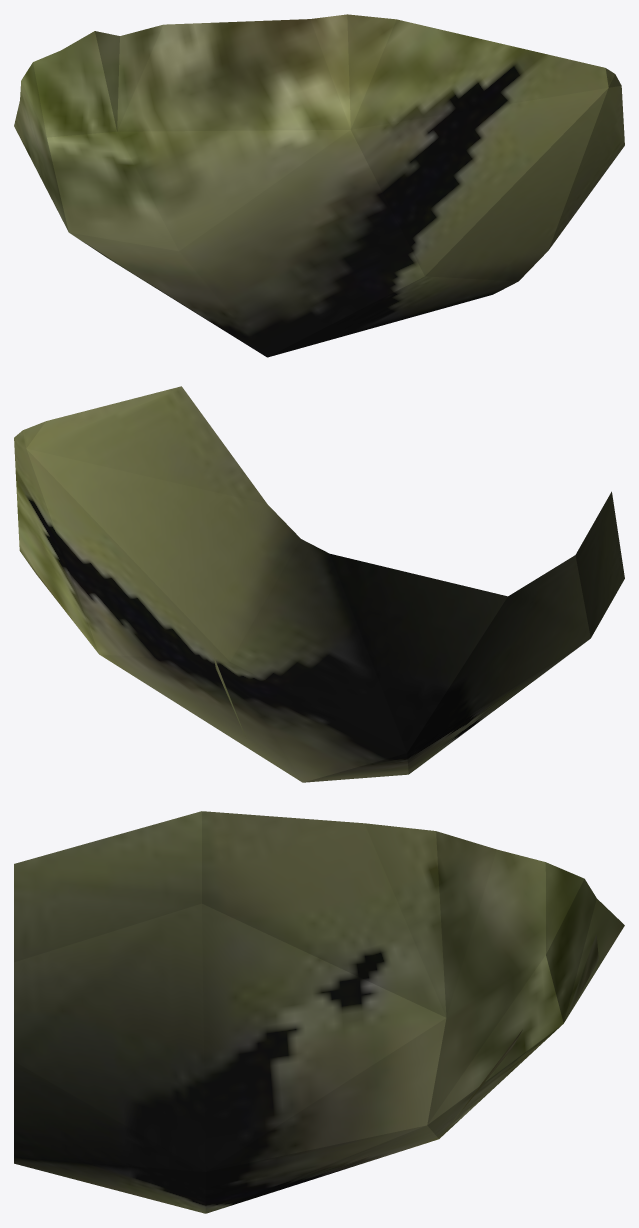
The picture shows the model from 3 angles, top to bottom: view 1: azimuth 30°, elevation 25°; view 2: azimuth 150°, elevation 25°; view 3: azimuth 270°, elevation 25°; orthographic projection. The views are drawn at different scales.
Size of the model in its own units: 1.06 by 0.3776 by 0.8497.
1 material, 1 textured.
